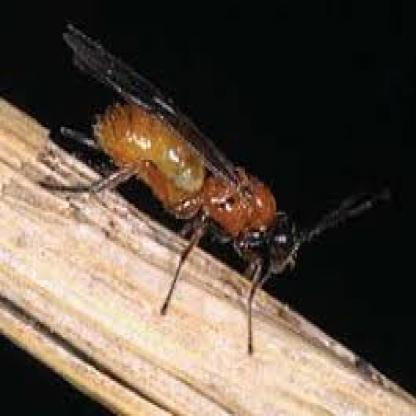sawfly: (32, 18, 384, 362)
